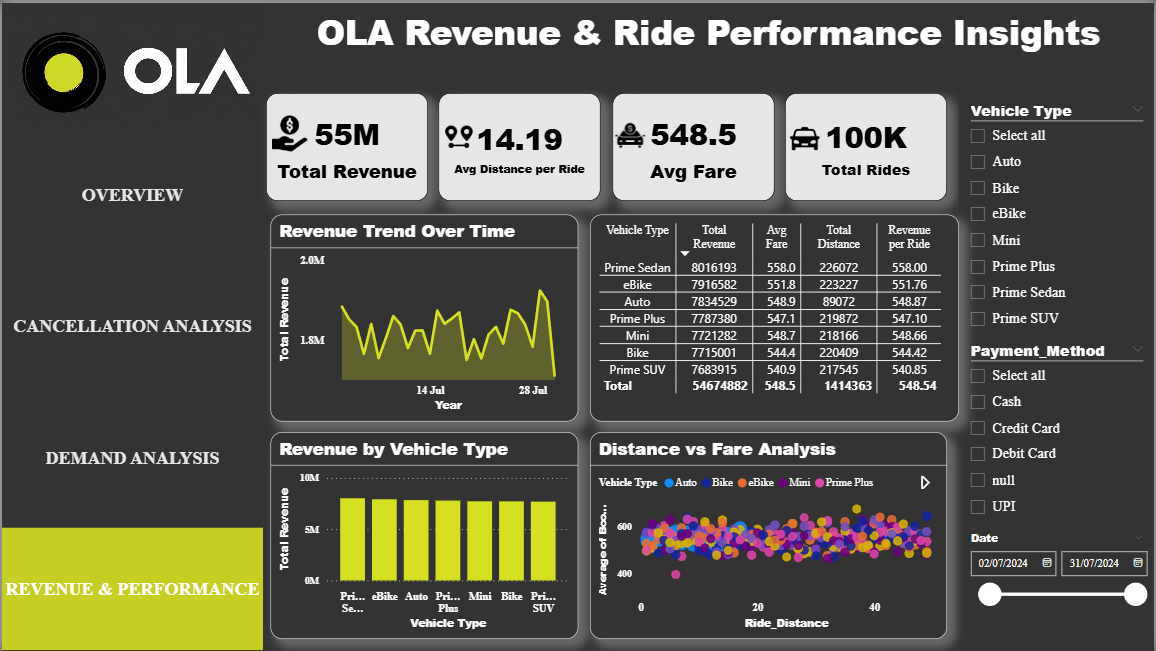

What the dashboard file says about the page in this screenshot:
{"tool":"powerbi","page":{"name":"REVENUE & PERFORMANCE","canvas":[1280,720],"ordinal":3},"visuals":[{"type":"shape","box":[0,0,289.4,719.1],"z":0},{"type":"image","box":[0,0,290,146],"z":1000},{"type":"pageNavigator","box":[0,145,290,575],"z":2000},{"type":"card","fields":{"Values":["all measures.Avg Fare"]},"box":[678,100,180,120],"z":3000},{"type":"card","fields":{"Values":["all measures.Total Rides"]},"box":[870,100,180,120],"z":4000},{"type":"card","fields":{"Values":["all measures.Avg Distance per Ride"]},"box":[485,100,180,120],"z":5000},{"type":"card","fields":{"Values":["all measures.Total Revenue"]},"box":[294,100,180,120],"z":6000},{"type":"textbox","box":[290,0,990,90],"z":7000},{"type":"slicer","fields":{"Values":["Bookings.Date"]},"box":[1062.9,580,217.1,120],"z":8000},{"type":"slicer","fields":{"Values":["Bookings.Vehicle Type"]},"box":[1062.5,102.5,217.5,267.5],"z":9000},{"type":"slicer","fields":{"Values":["Bookings.Payment_Method"]},"box":[1062.5,370,217.5,210],"z":10000},{"type":"lineChart","title":"Revenue Trend Over Time","fields":{"Category":["Bookings.Date.Variation.Date Hierarchy.Year","Bookings.Date.Variation.Date Hierarchy.Quarter","Bookings.Date.Variation.Date Hierarchy.Month","Bookings.Date.Variation.Date Hierarchy.Day"],"Y":["all measures.Total Revenue"]},"box":[298.3,235,341.7,230],"z":11000},{"type":"clusteredColumnChart","title":"Revenue by Vehicle Type","fields":{"Category":["Bookings.Vehicle Type"],"Y":["all measures.Total Revenue"]},"box":[298.3,476.7,341.7,230],"z":12000},{"type":"tableEx","title":"Ride Trend Over Time","fields":{"Values":["Bookings.Vehicle Type","all measures.Total Revenue","all measures.Avg Fare","all measures.Total Distance","all measures.Revenue per Ride"]},"box":[653.3,235.6,410,230],"z":13000},{"type":"scatterChart","title":"Distance vs Fare Analysis","fields":{"X":["Bookings.Ride_Distance"],"Y":["Avg(Bookings.Booking_Value)"],"Series":["Bookings.Vehicle Type"],"Size":["all measures.Total Rides"]},"box":[653.3,476.7,396.7,230],"z":14000},{"type":"image","box":[294,124.6,52.7,39.9],"z":14002},{"type":"image","box":[870,133.8,43.8,34.6],"z":14003},{"type":"image","box":[677.7,130.8,39.2,33.8],"z":14004},{"type":"image","box":[485.4,133.8,45.4,30.8],"z":14005}]}

Visuals, with their boxes in screenshot pixels (x1, y1, x2, y2), scaled from the page's 1280x720 canvas onto the 1156x651 screenshot:
shape: <region>0, 0, 261, 650</region>
image: <region>0, 0, 262, 132</region>
pageNavigator: <region>0, 131, 262, 650</region>
card - all measures.Avg Fare: <region>612, 90, 775, 199</region>
card - all measures.Total Rides: <region>786, 90, 948, 199</region>
card - all measures.Avg Distance per Ride: <region>438, 90, 601, 199</region>
card - all measures.Total Revenue: <region>266, 90, 428, 199</region>
textbox: <region>262, 0, 1155, 81</region>
slicer - Bookings.Date: <region>960, 524, 1155, 633</region>
slicer - Bookings.Vehicle Type: <region>960, 93, 1155, 335</region>
slicer - Bookings.Payment_Method: <region>960, 335, 1155, 524</region>
"Revenue Trend Over Time" lineChart: <region>269, 212, 578, 420</region>
"Revenue by Vehicle Type" clusteredColumnChart: <region>269, 431, 578, 639</region>
"Ride Trend Over Time" tableEx: <region>590, 213, 960, 421</region>
"Distance vs Fare Analysis" scatterChart: <region>590, 431, 948, 639</region>
image: <region>266, 113, 313, 149</region>
image: <region>786, 121, 825, 152</region>
image: <region>612, 118, 647, 149</region>
image: <region>438, 121, 479, 149</region>
